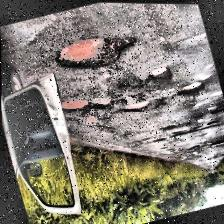pothole: (52, 28, 125, 80), (175, 72, 207, 100), (58, 92, 92, 118), (121, 96, 150, 116), (148, 62, 172, 82), (158, 119, 178, 134), (208, 98, 224, 116)
